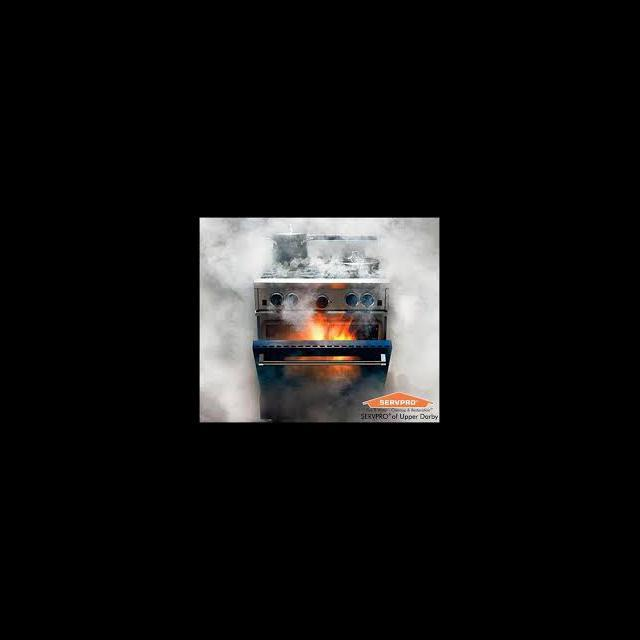Fire: (290, 308, 368, 384)
Smoke: (254, 220, 439, 280), (202, 220, 252, 420), (391, 278, 439, 391), (275, 290, 312, 324), (356, 289, 378, 334)
